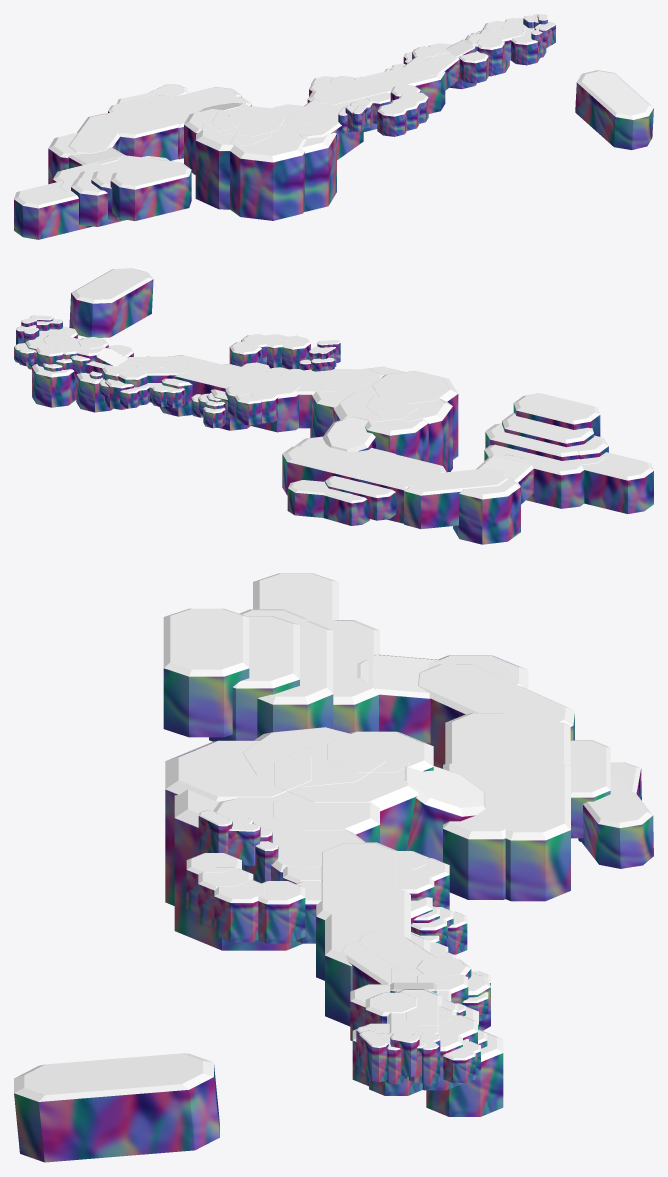
The model's file is River_terrain.fbx.
3 views of the same model, one above another, from view 1: azimuth 30°, elevation 25°; view 2: azimuth 150°, elevation 25°; view 3: azimuth 270°, elevation 25° (orthographic). The views are drawn at different scales.
Parts seen in each view (by area): view 1: Octagon1_0_5_001_45, Octagon2_0_5_001_25, Octagon2_0_5_001_8, Octagon2_0_5_001_1, Octagon1_0_5_001_24, Octagon1_0_5_001_39, Octagon1_0_5_001__41_, Octagon2_0_5_001__30_, Octagon2_0_5_001__6_, Octagon2_0_5_001_17, Octagon1_0_5_001__42_, Octagon2_0_5_001__18_ (+31 smaller); view 2: Octagon1_0_5_001_50, Octagon2_0_5_001_8, Octagon2_0_5_001_1, Octagon2_0_5_001_18, Octagon2_0_5_001_9, Octagon1_0_5_001__41_, Octagon2_0_5_001__6_, Octagon1_0_5_001__42_, Octagon2_0_5_001__18_, Octagon1_0_5_001_28, Octagon2_0_5_001__30_, Octagon2_0_5_001__25_ (+40 smaller); view 3: Octagon2_0_5_001_8, Octagon1_0_5_001__41_, Octagon2_0_5_001__30_, Octagon2_0_5_001__6_, Octagon2_0_5_001_25, Octagon2_0_5_001__18_, Octagon2_0_5_001__25_, Octagon1_0_5_001__42_, Octagon2_0_5_001_12, Octagon2_0_5_001__12_, Octagon2_0_5_001__13_, Octagon2_0_5_001_11 (+43 smaller).
Boxes of the visible parts, <box> form: Octagon1_0_5_001_45: <box>230,135,304,220</box>; Octagon2_0_5_001_25: <box>110,170,191,220</box>; Octagon2_0_5_001_8: <box>575,82,653,149</box>; Octagon2_0_5_001_1: <box>14,198,92,239</box>; Octagon1_0_5_001_24: <box>195,140,229,209</box>; Octagon1_0_5_001_39: <box>304,134,336,211</box>; Octagon1_0_5_001__41_: <box>231,125,303,155</box>; Octagon2_0_5_001__30_: <box>581,71,649,115</box>; Octagon2_0_5_001__6_: <box>313,75,400,104</box>; Octagon2_0_5_001_17: <box>120,128,177,160</box>; Octagon1_0_5_001__42_: <box>202,116,271,144</box>; Octagon2_0_5_001__18_: <box>69,114,118,153</box>; Octagon1_0_5_001_50: <box>453,487,520,544</box>; Octagon2_0_5_001_8: <box>69,279,153,337</box>; Octagon2_0_5_001_1: <box>584,470,653,513</box>; Octagon2_0_5_001_18: <box>404,491,460,528</box>; Octagon2_0_5_001_9: <box>484,450,584,508</box>; Octagon1_0_5_001__41_: <box>372,371,450,403</box>; Octagon2_0_5_001__6_: <box>206,364,299,394</box>; Octagon1_0_5_001__42_: <box>366,388,444,420</box>; Octagon2_0_5_001__18_: <box>409,468,505,491</box>; Octagon1_0_5_001_28: <box>32,367,76,407</box>; Octagon2_0_5_001__30_: <box>76,268,148,299</box>; Octagon2_0_5_001__25_: <box>518,393,595,420</box>; Octagon2_0_5_001_8: <box>14,1065,219,1162</box>; Octagon1_0_5_001__41_: <box>178,741,311,796</box>; Octagon2_0_5_001__30_: <box>24,1053,202,1094</box>; Octagon2_0_5_001__6_: <box>322,843,395,918</box>; Octagon2_0_5_001_25: <box>163,668,249,737</box>; Octagon2_0_5_001__18_: <box>419,664,565,721</box>; Octagon2_0_5_001__25_: <box>170,608,242,669</box>; Octagon1_0_5_001__42_: <box>260,727,384,786</box>; Octagon2_0_5_001_12: <box>505,830,570,901</box>; Octagon2_0_5_001__12_: <box>239,791,363,859</box>; Octagon2_0_5_001__13_: <box>449,755,522,831</box>; Octagon2_0_5_001_11: <box>443,829,505,899</box>.
Size of the model in its own units: 59826 by 7941 by 30104.
3 materials, 1 textured.
